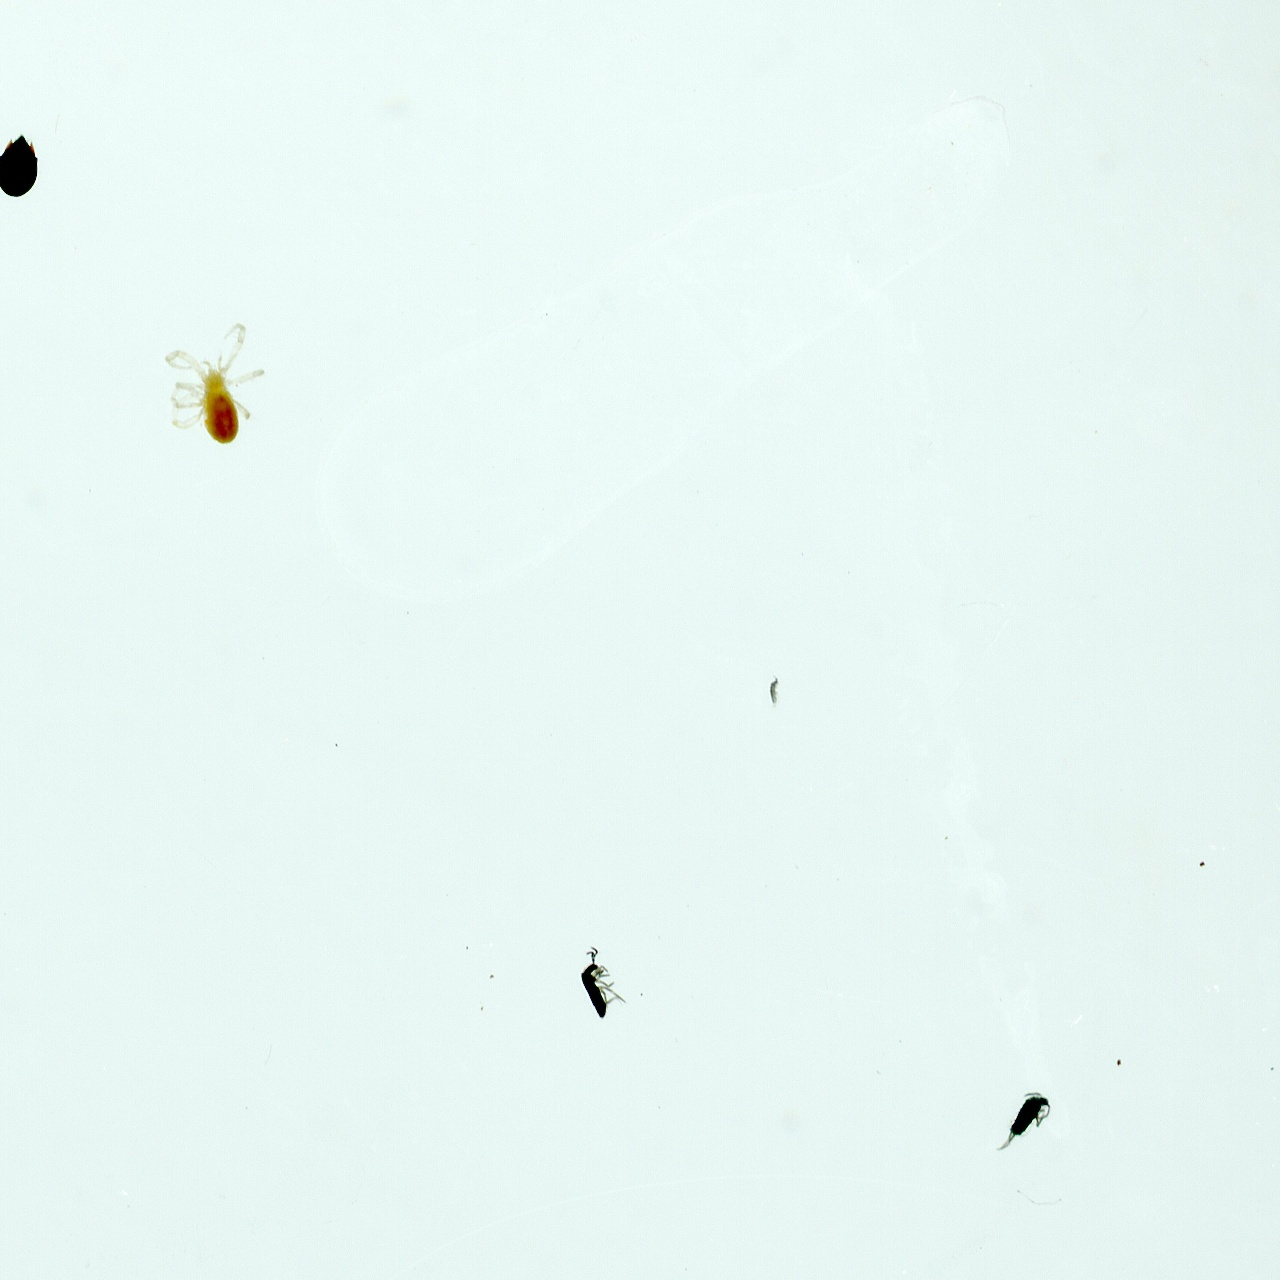arthropod: (163, 319, 268, 447), (564, 937, 640, 1033), (990, 1078, 1058, 1167), (0, 131, 41, 202), (767, 667, 783, 719)
